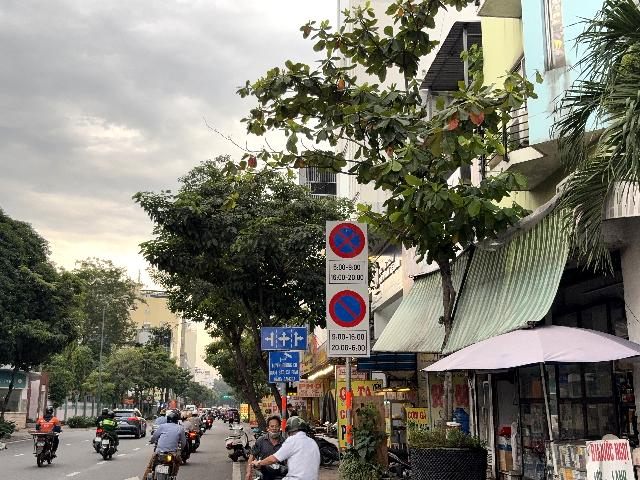cam-do-xe: (329, 290, 366, 327)
cam-dung-va-do-xe: (329, 222, 365, 259)
